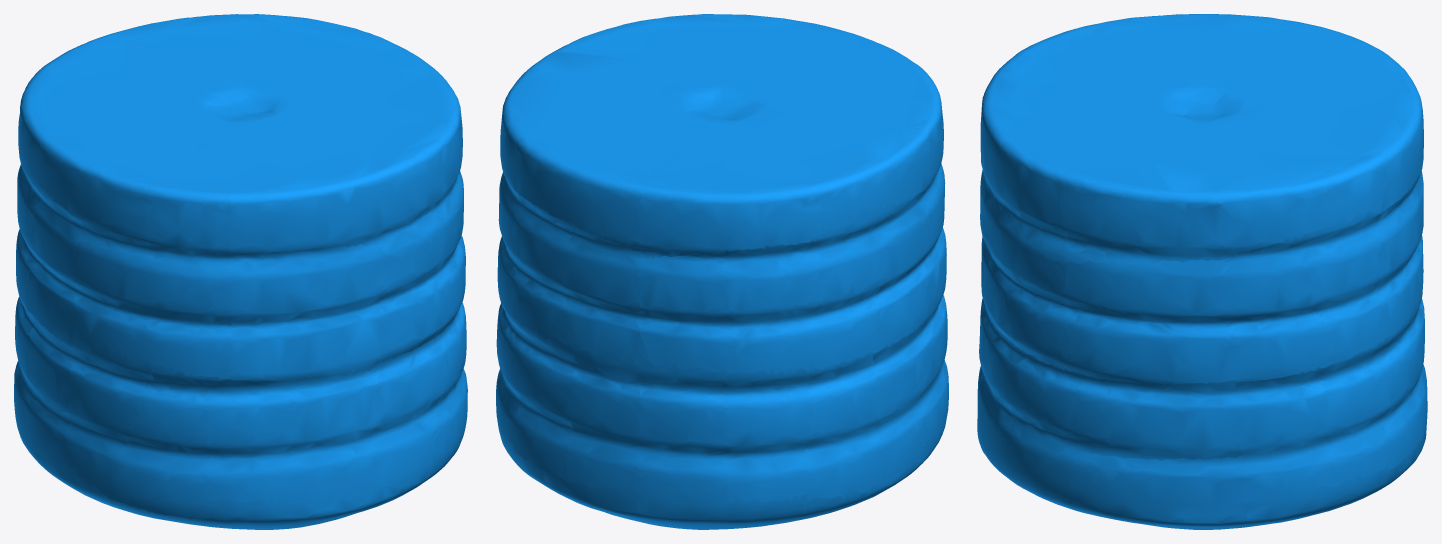
File: SQL.glb
3 views of the same model, side by side, from view 1: azimuth 30°, elevation 25°; view 2: azimuth 150°, elevation 25°; view 3: azimuth 270°, elevation 25° (orthographic).
Visible parts, largest first — view 1: Object_4; view 2: Object_4; view 3: Object_4.
Part boxes in pixels (x1=…): Object_4: x1=14, y1=14, x2=467, y2=529; Object_4: x1=496, y1=14, x2=948, y2=529; Object_4: x1=977, y1=14, x2=1427, y2=529.
Bounding box in the file's own units: 0.7624 × 0.6962 × 0.772.
